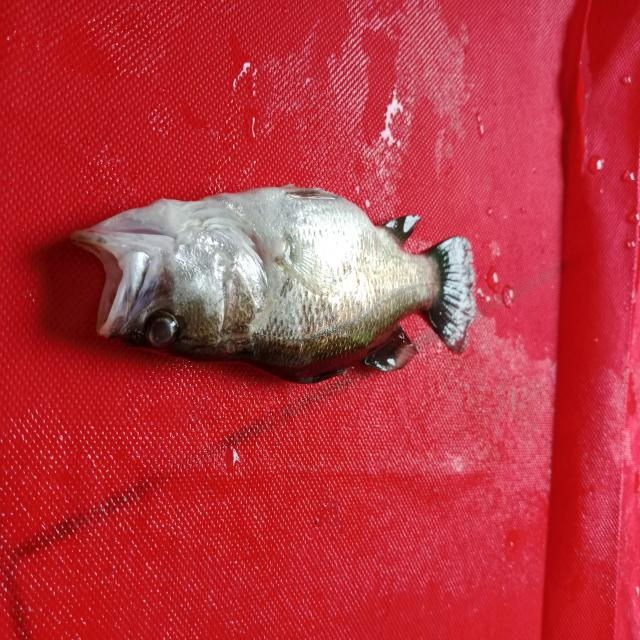ikan: (69, 161, 524, 425)
